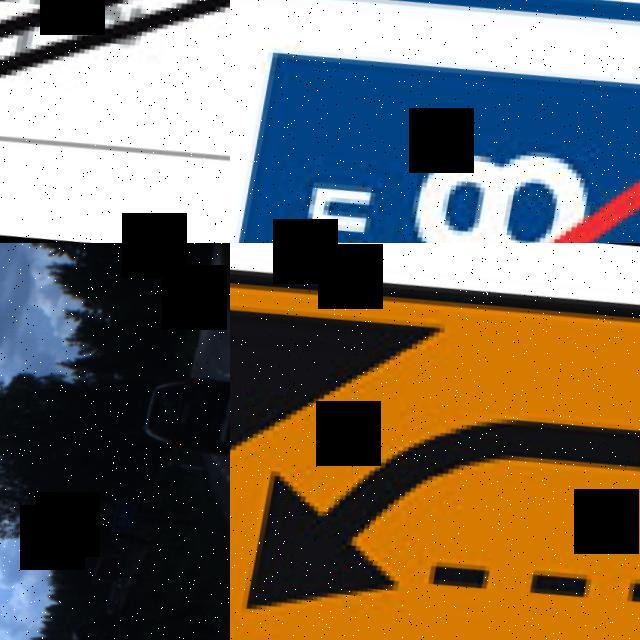115: (0, 0, 230, 206)
172: (112, 502, 140, 540)
57: (90, 502, 118, 526)
64: (230, 243, 640, 640)
end of the speed limit: (230, 0, 640, 243)
